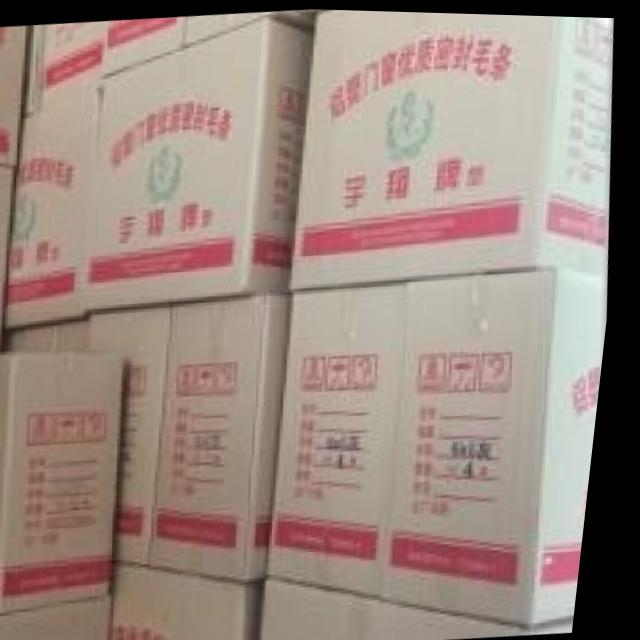box: (295, 8, 613, 287), (394, 261, 613, 628), (89, 15, 308, 311), (278, 279, 413, 597), (15, 306, 174, 565), (160, 292, 295, 576), (0, 352, 130, 616), (6, 81, 103, 331), (271, 578, 545, 640), (125, 562, 270, 640), (0, 597, 125, 640), (0, 25, 28, 165), (0, 165, 17, 352)
